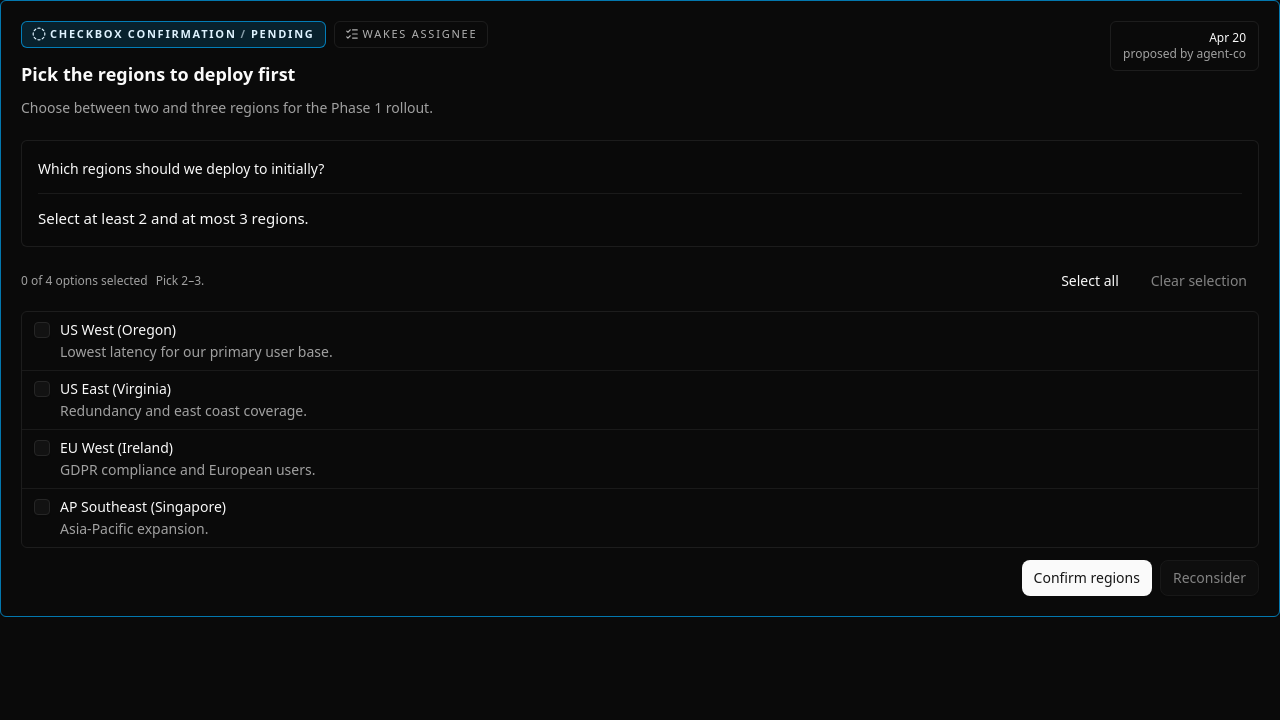
Test: IssueThreadInteractionCard › blocks accept until the minimum selection is met
Click the button "Confirm regions" at (1087, 578), box [1022, 560, 1152, 596]
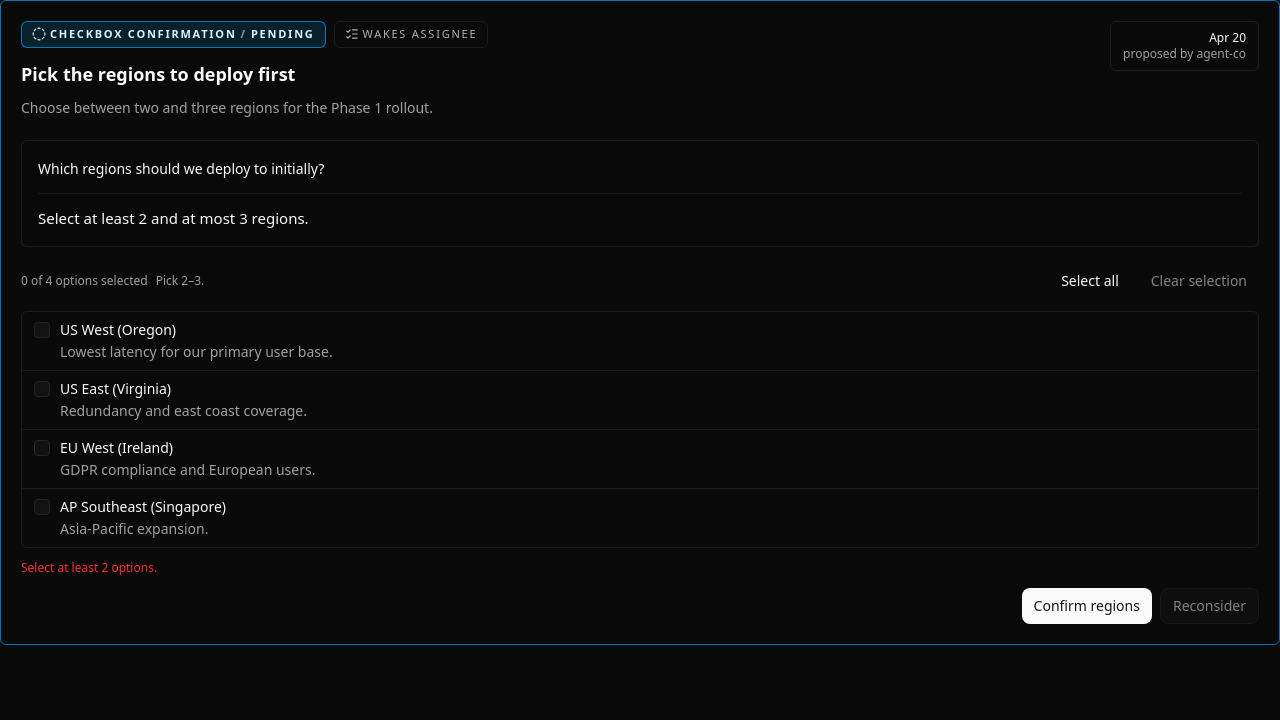
Result: the text "Select at least 2 options." is shown at [21, 558, 157, 576]
